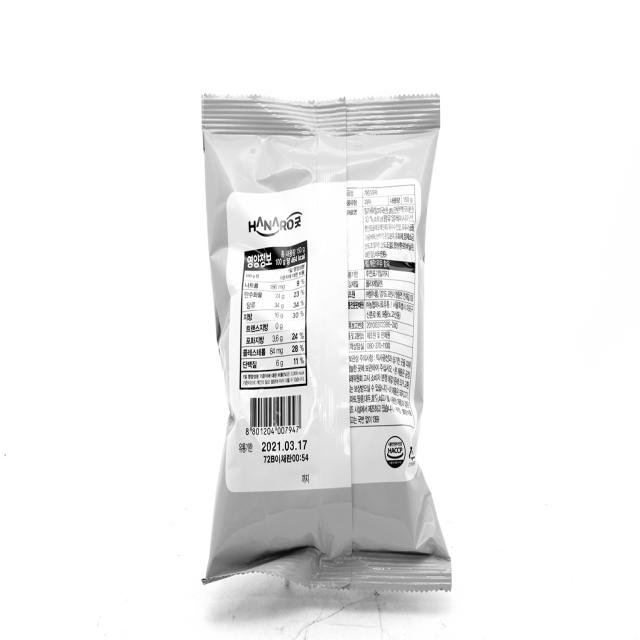Nutrition Label: (233, 234, 314, 392)
